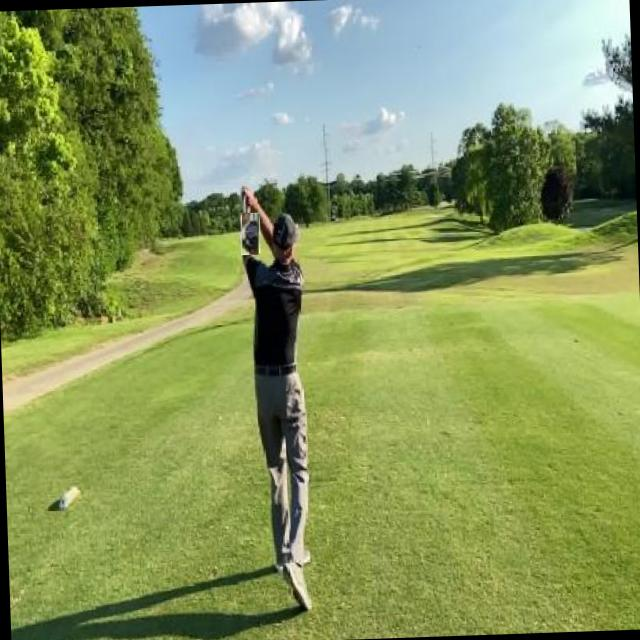club head: (240, 212, 260, 255)
